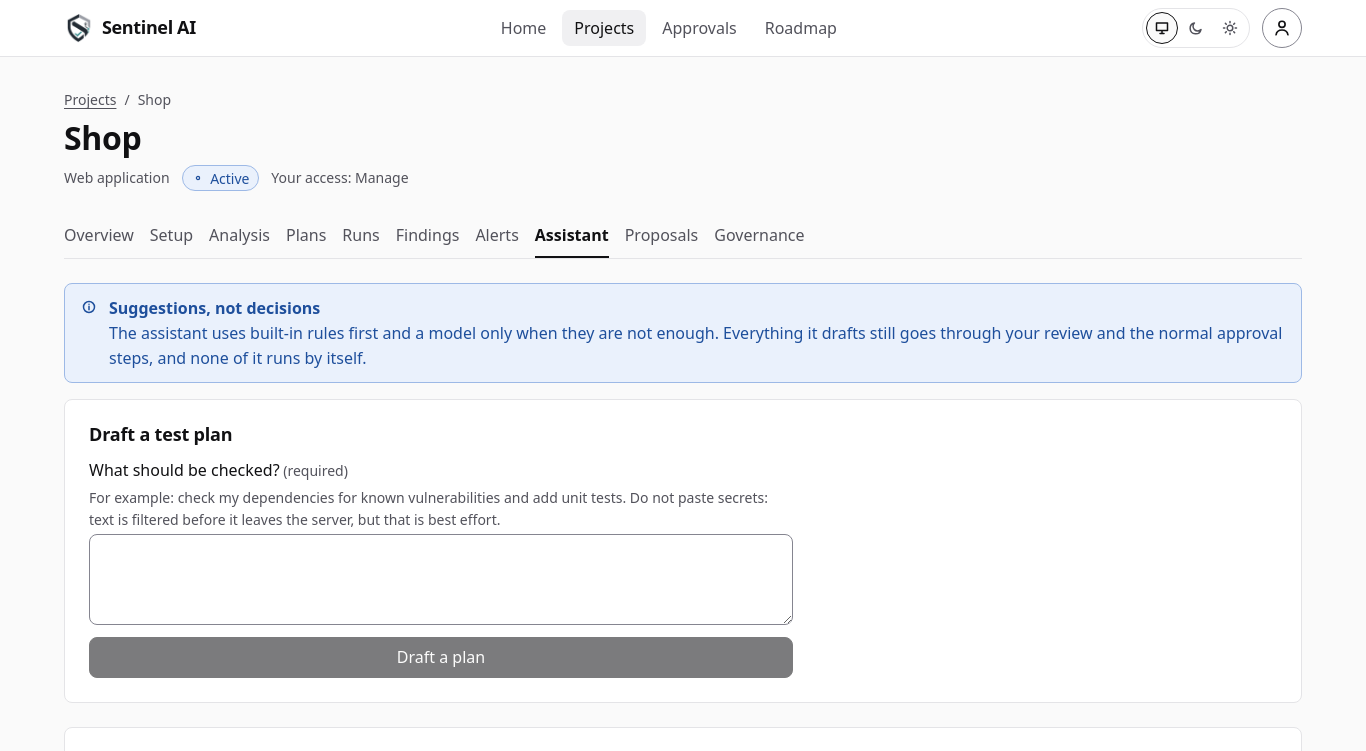
it: assistant runs › starts a planning run with the request text only and opens its result
Type "check my dependencies" into the text box labelled "What should be checked? (required)". click: [441, 580]
box: [89,534,793,625]
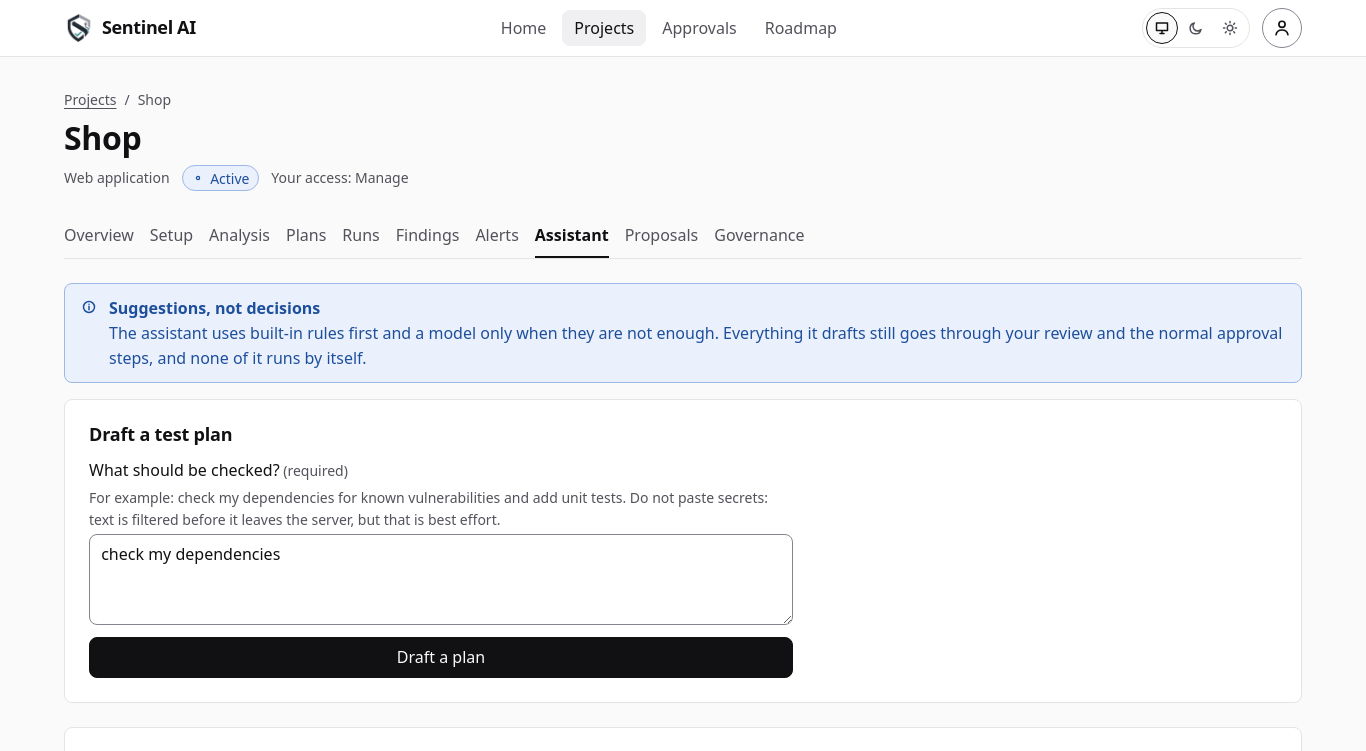
Click the button "Draft a plan". click: [441, 658]
box: [89,637,793,678]
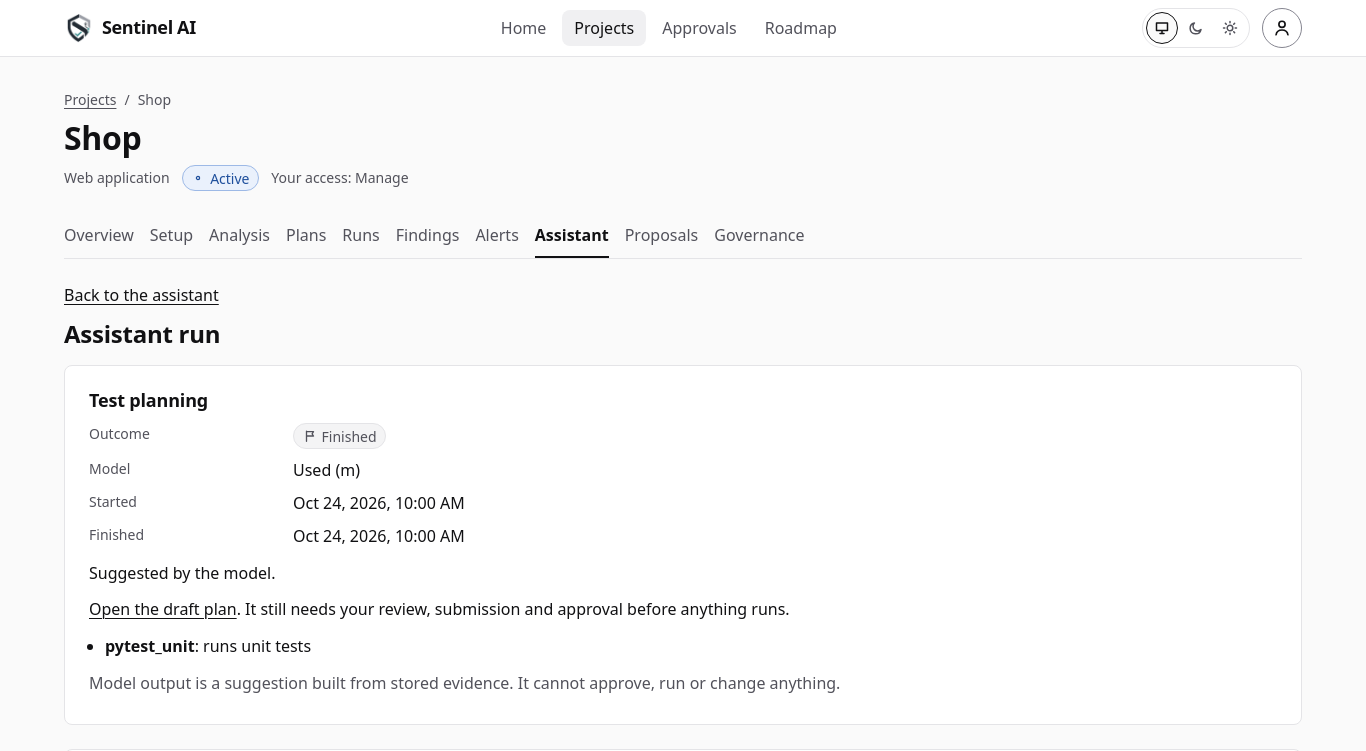
Check: the link "Open the draft plan" is shown, box [89,598,237,620]
